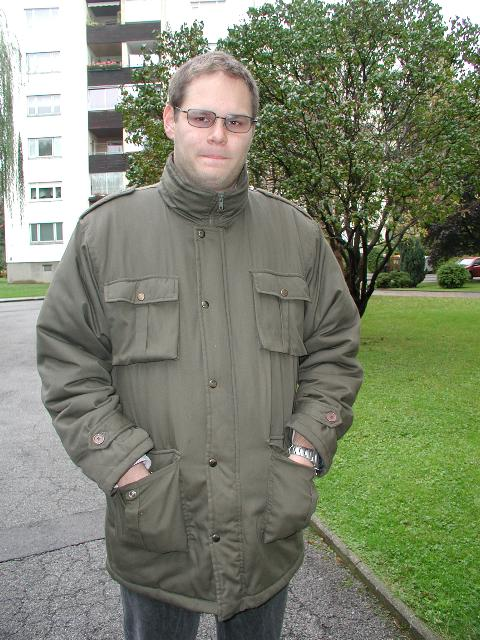Person: (34, 47, 366, 640)
